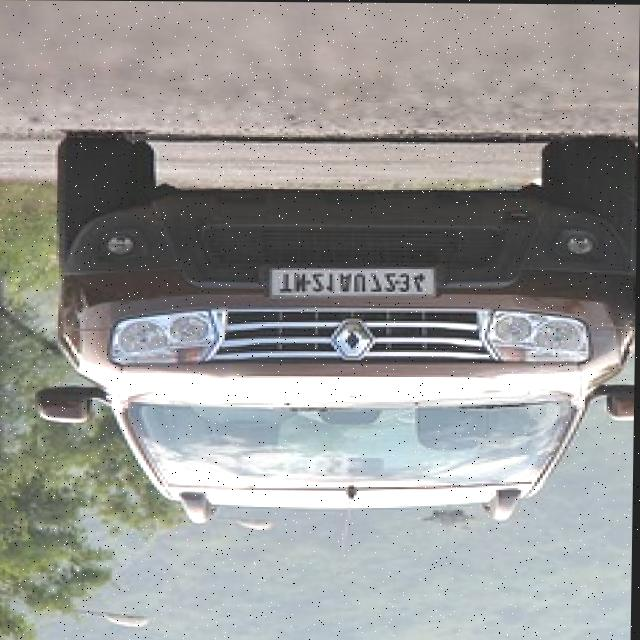plate: (264, 265, 437, 302)
